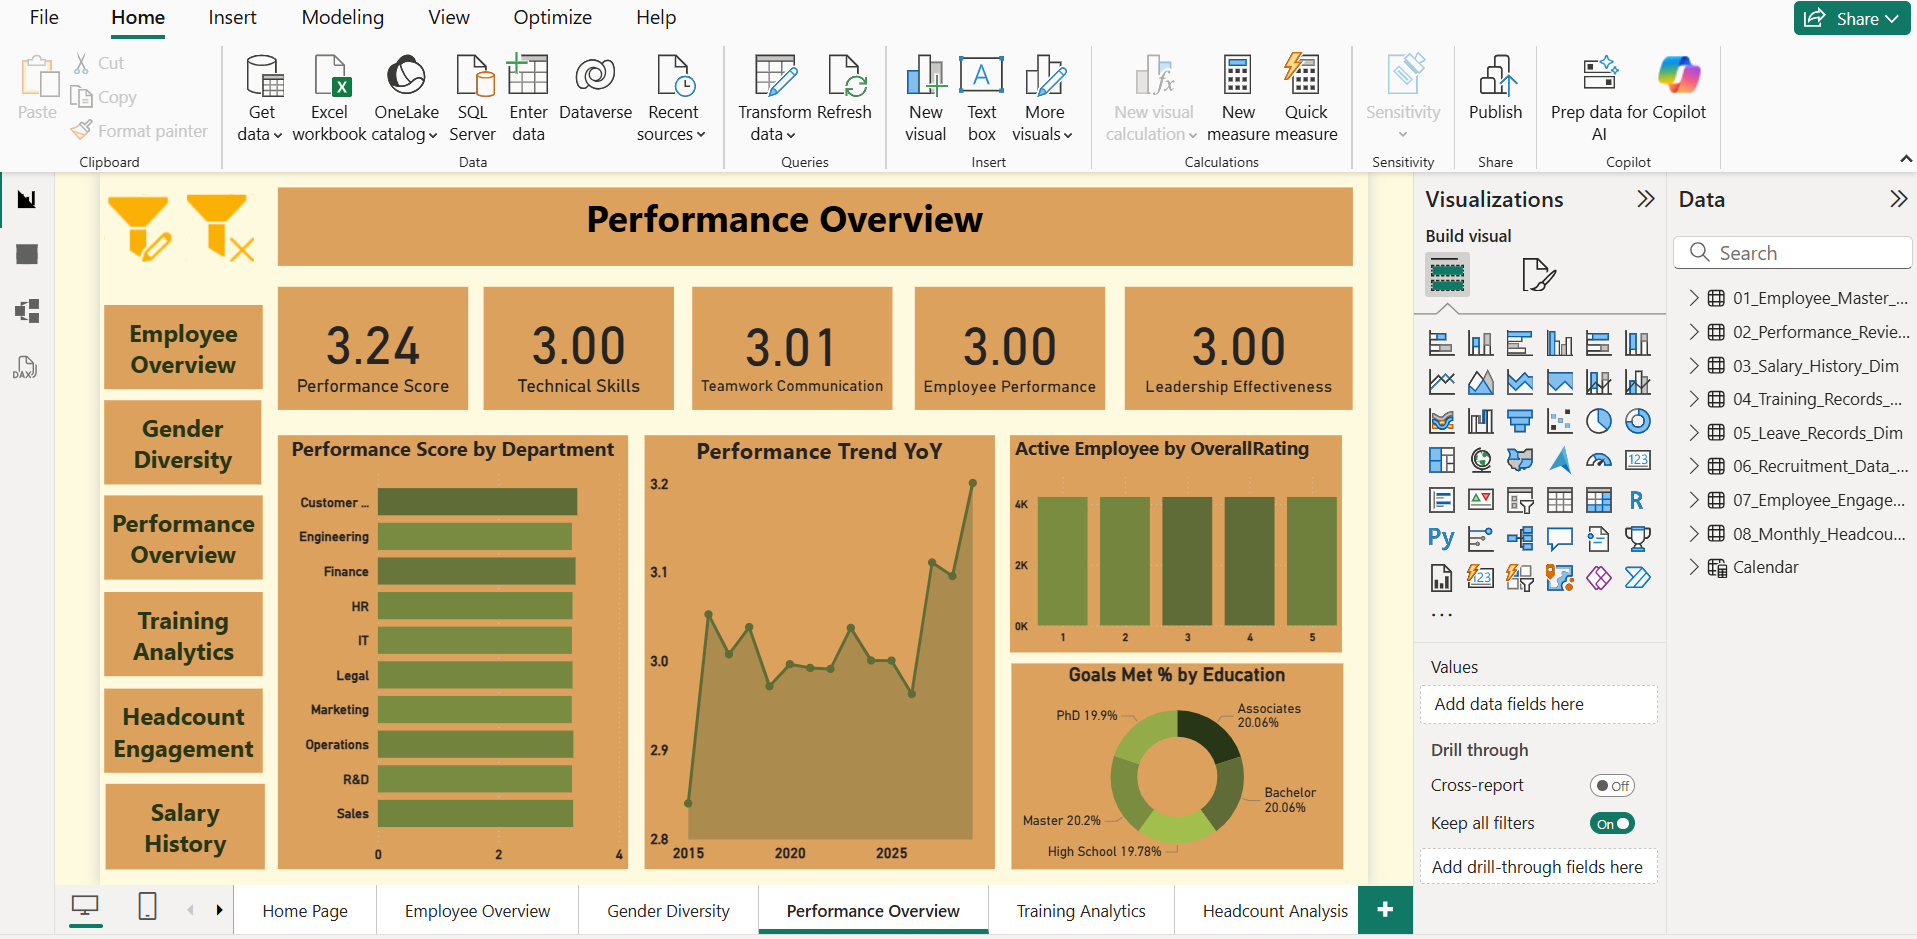

The dashboard page shown, as its layout file describes it:
{"tool":"powerbi","page":{"name":"Performance Overview","canvas":[1280,720],"ordinal":3},"visuals":[{"type":"textbox","box":[179.4,15.5,1085.1,79.1],"z":0},{"type":"actionButton","box":[3.5,134.8,159.7,85.2],"z":0,"group":"g1"},{"type":"actionButton","box":[3.5,230.3,158.3,85.2],"z":1000,"group":"g1"},{"type":"areaChart","title":"Performance Trend YoY","fields":{"Category":["02_Performance_Reviews_Dim.ReviewDate.Variation.Date Hierarchy.Year"],"Y":["02_Performance_Reviews_Dim.Employee Performance"]},"box":[549.6,265.6,353.2,438],"z":1000},{"type":"card","fields":{"Values":["02_Performance_Reviews_Dim.Technical Skills"]},"box":[387.1,115.9,192.2,124.3],"z":2000},{"type":"actionButton","box":[3.5,522.5,159.7,85.2],"z":2000,"group":"g1"},{"type":"card","fields":{"Values":["02_Performance_Reviews_Dim.Performance Score"]},"box":[179.4,115.9,192.2,124.3],"z":3000},{"type":"actionButton","box":[3.5,424.1,159.7,85.2],"z":3000,"group":"g1"},{"type":"card","fields":{"Values":["02_Performance_Reviews_Dim.Teamwork Communication"]},"box":[597.7,115.9,202,124.3],"z":4000},{"type":"actionButton","box":[3.5,327.2,159.7,85.2],"z":4000,"group":"g1"},{"type":"card","fields":{"Values":["02_Performance_Reviews_Dim.Leadership Effectiveness"]},"box":[1034.2,115.9,230.3,124.3],"z":5000},{"type":"actionButton","box":[4.3,617.8,160.5,86.2],"z":5000,"group":"g1"},{"type":"card","fields":{"Values":["02_Performance_Reviews_Dim.Employee Performance"]},"box":[822.3,115.9,192.2,124.3],"z":6000},{"type":"barChart","fields":{"Y":["02_Performance_Reviews_Dim.Performance Score"],"Category":["01_Employee_Master_Fact.Department"]},"box":[179.4,265.6,353.2,438],"z":7000},{"type":"columnChart","fields":{"Category":["02_Performance_Reviews_Dim.OverallRating"],"Y":["01_Employee_Master_Fact.Active Employee"]},"box":[918.4,265.6,334.9,219],"z":8000},{"type":"donutChart","fields":{"Y":["02_Performance_Reviews_Dim.Goals Met %"],"Category":["01_Employee_Master_Fact.Education"]},"box":[919.8,495.9,334.9,207.7],"z":9000},{"type":"group","id":"g1","title":"Menu Buttons","box":[3.5,134.8,161.4,569.2],"z":10000},{"type":"actionButton","box":[0,18.4,79.1,76.3],"z":12000},{"type":"actionButton","box":[83.3,17.7,79.8,76.2],"z":13000}]}

Visuals, with their boxes on the page's 1280x720 design canvas (x1, y1, x2, y2). These are canvas units, not pixel positions in the 1917x939 screenshot, which may show the page scaled, cropped or inside an application window:
textbox: locate(179, 16, 1264, 95)
actionButton: locate(4, 135, 163, 220)
actionButton: locate(4, 230, 162, 316)
"Performance Trend YoY" areaChart: locate(550, 266, 903, 704)
card - 02_Performance_Reviews_Dim.Technical Skills: locate(387, 116, 579, 240)
actionButton: locate(4, 522, 163, 608)
card - 02_Performance_Reviews_Dim.Performance Score: locate(179, 116, 372, 240)
actionButton: locate(4, 424, 163, 509)
card - 02_Performance_Reviews_Dim.Teamwork Communication: locate(598, 116, 800, 240)
actionButton: locate(4, 327, 163, 412)
card - 02_Performance_Reviews_Dim.Leadership Effectiveness: locate(1034, 116, 1264, 240)
actionButton: locate(4, 618, 165, 704)
card - 02_Performance_Reviews_Dim.Employee Performance: locate(822, 116, 1014, 240)
barChart - 02_Performance_Reviews_Dim.Performance Score x 01_Employee_Master_Fact.Department: locate(179, 266, 533, 704)
columnChart - 02_Performance_Reviews_Dim.OverallRating x 01_Employee_Master_Fact.Active Employee: locate(918, 266, 1253, 485)
donutChart - 02_Performance_Reviews_Dim.Goals Met % x 01_Employee_Master_Fact.Education: locate(920, 496, 1255, 704)
"Menu Buttons" group: locate(4, 135, 165, 704)
actionButton: locate(0, 18, 79, 95)
actionButton: locate(83, 18, 163, 94)
